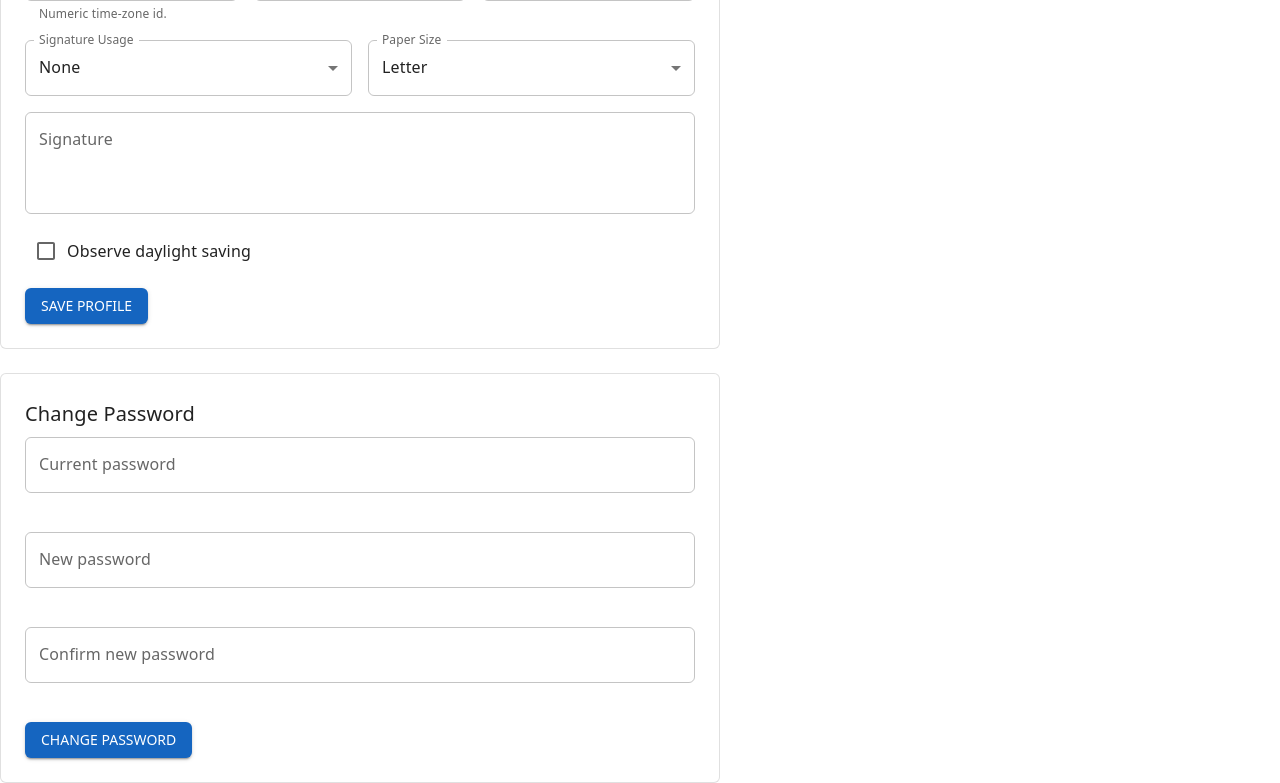
ProfilePage (TS-M4-B6) › shows an inline error when the new password is too short
(page scrolled)
In the password field with test id "pw-new": {"x": 360, "y": 560} [25,532,695,588], type "abc"
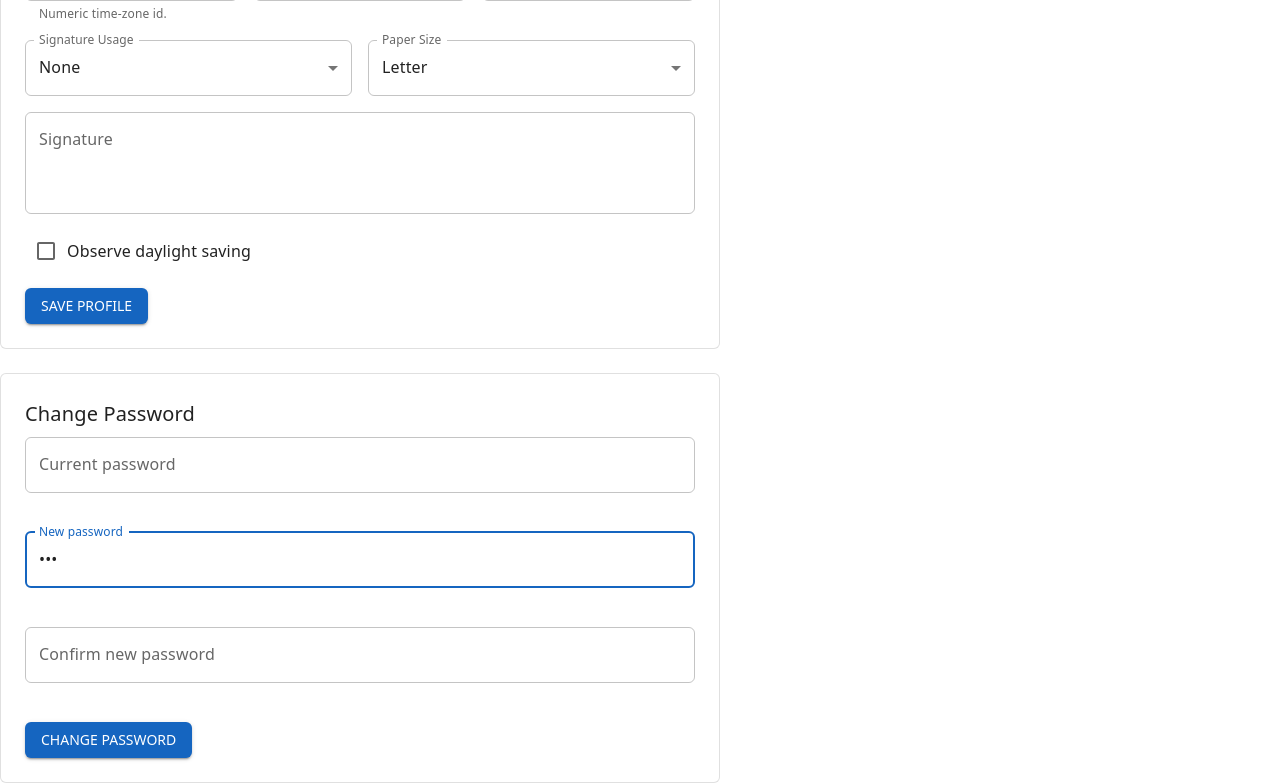
Click the button with test id "pw-save": {"x": 109, "y": 740} [25,722,192,758]
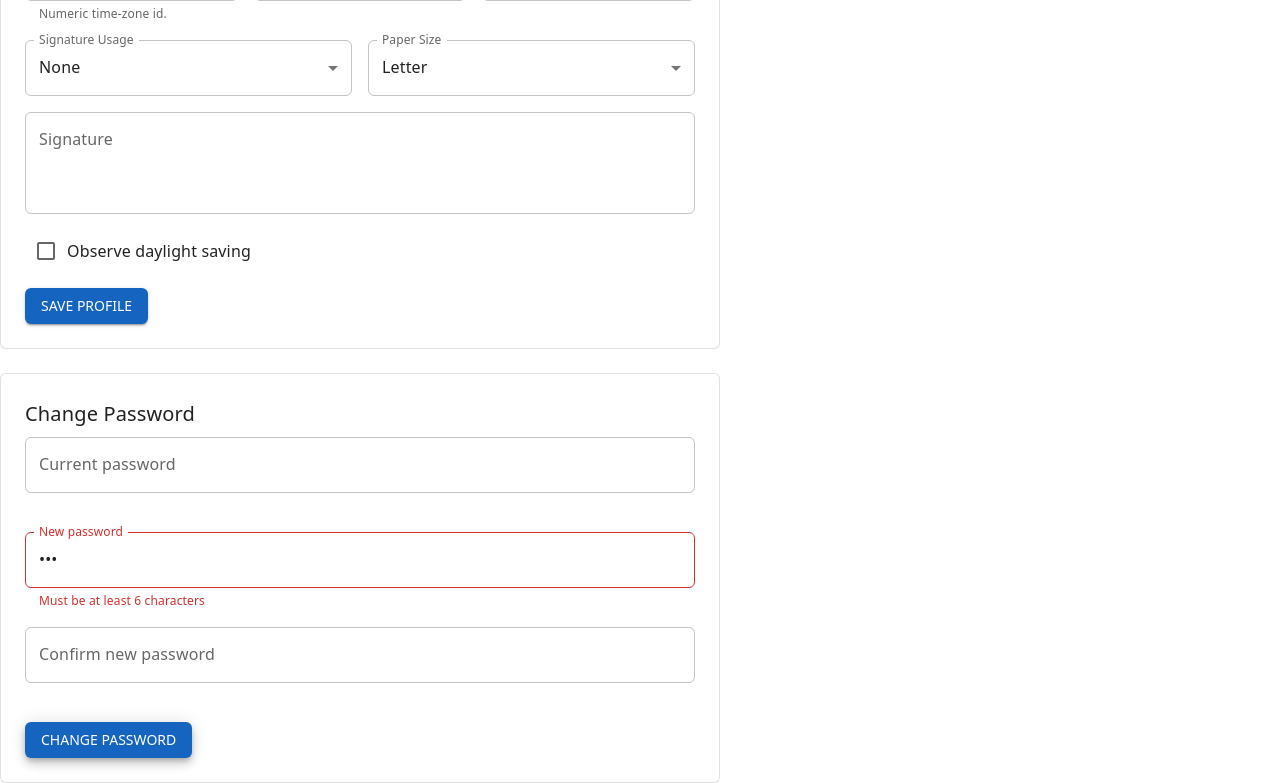
Expected: the text "Must be at least 6 characters" is shown, [39,592,205,609]
